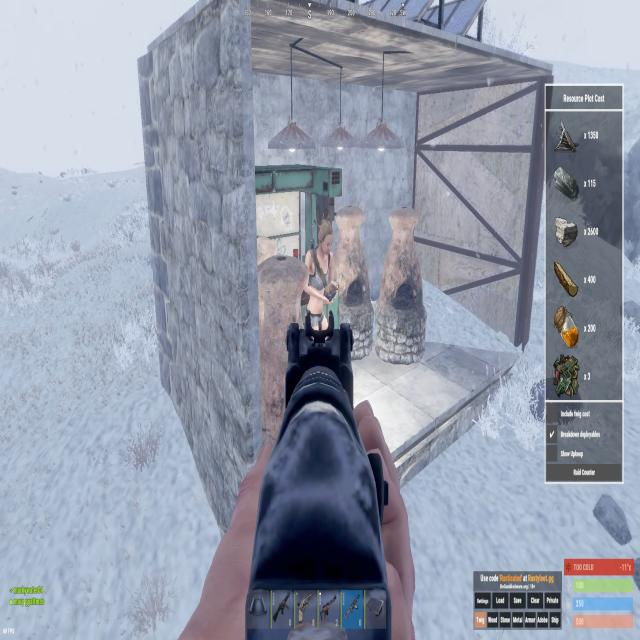Player: (303, 218, 337, 333)
